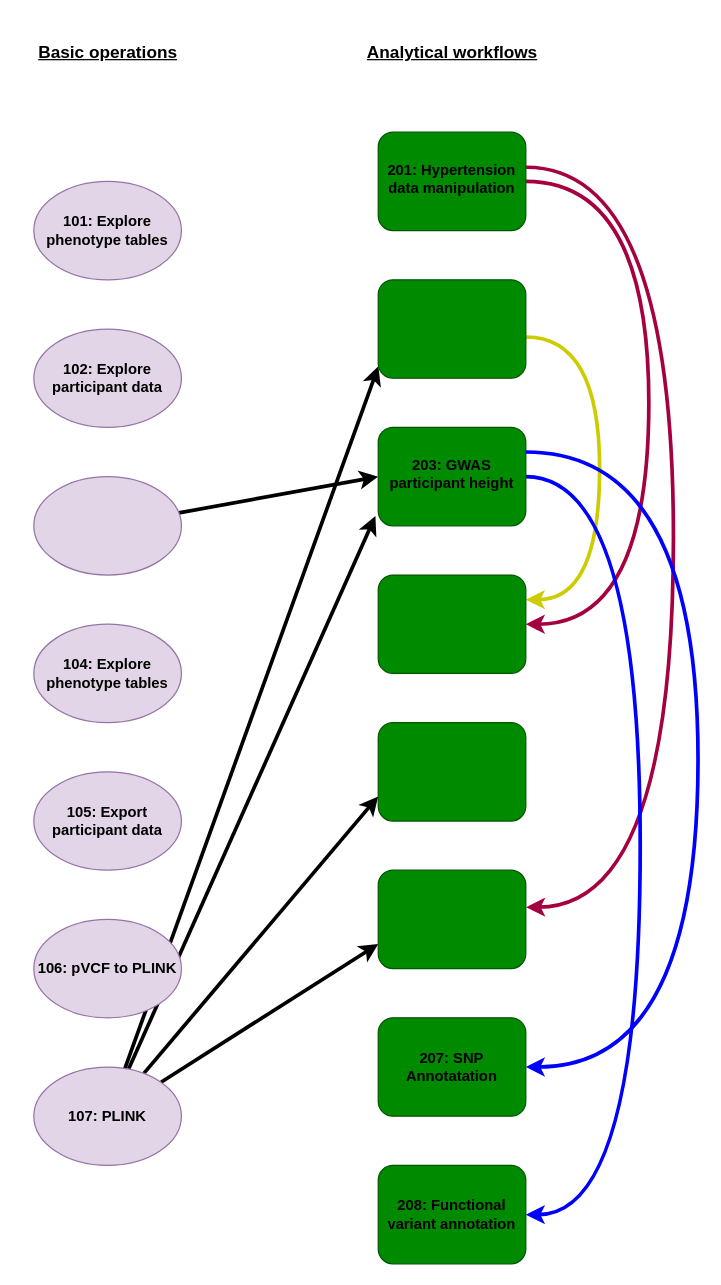
This 721x1285 diagram has some shape labels left out. Here are the shapes that lost their labels. From the top down, the box of each, then its label:
(377, 279, 526, 378): 202: Population structure (PCA)
(33, 475, 181, 575): 103: Export participant data
(377, 574, 526, 673): 204: GWAS hypertension
(377, 721, 526, 821): 205: Polygenic risk scores - height
(377, 869, 526, 969): 206: Polygenic risk scores - hypertension
